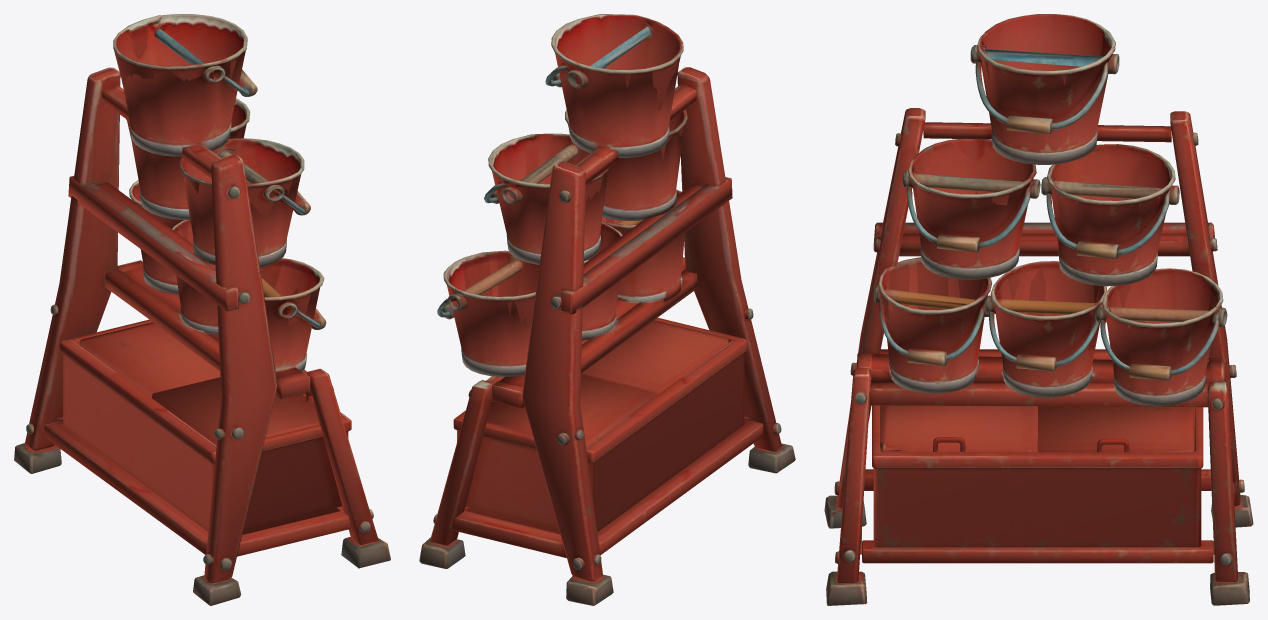
The model's file is fire_buckets.glb.
3 views of the same model, side by side, from view 1: azimuth 30°, elevation 25°; view 2: azimuth 150°, elevation 25°; view 3: azimuth 270°, elevation 25° (orthographic). The views are drawn at different scales.
Parts seen in each view (by area): view 1: tripo_node_3546c99f-89df-4542-b12a-21073a150d24; view 2: tripo_node_3546c99f-89df-4542-b12a-21073a150d24; view 3: tripo_node_3546c99f-89df-4542-b12a-21073a150d24.
Part boxes in pixels (x1,y1,x2,y2): tripo_node_3546c99f-89df-4542-b12a-21073a150d24: (14,14,390,605); tripo_node_3546c99f-89df-4542-b12a-21073a150d24: (419,14,795,605); tripo_node_3546c99f-89df-4542-b12a-21073a150d24: (824,14,1253,605).
Size of the model in its own units: 0.4263 by 0.9995 by 0.7642.
Materials: 1 (1 with a texture image).
